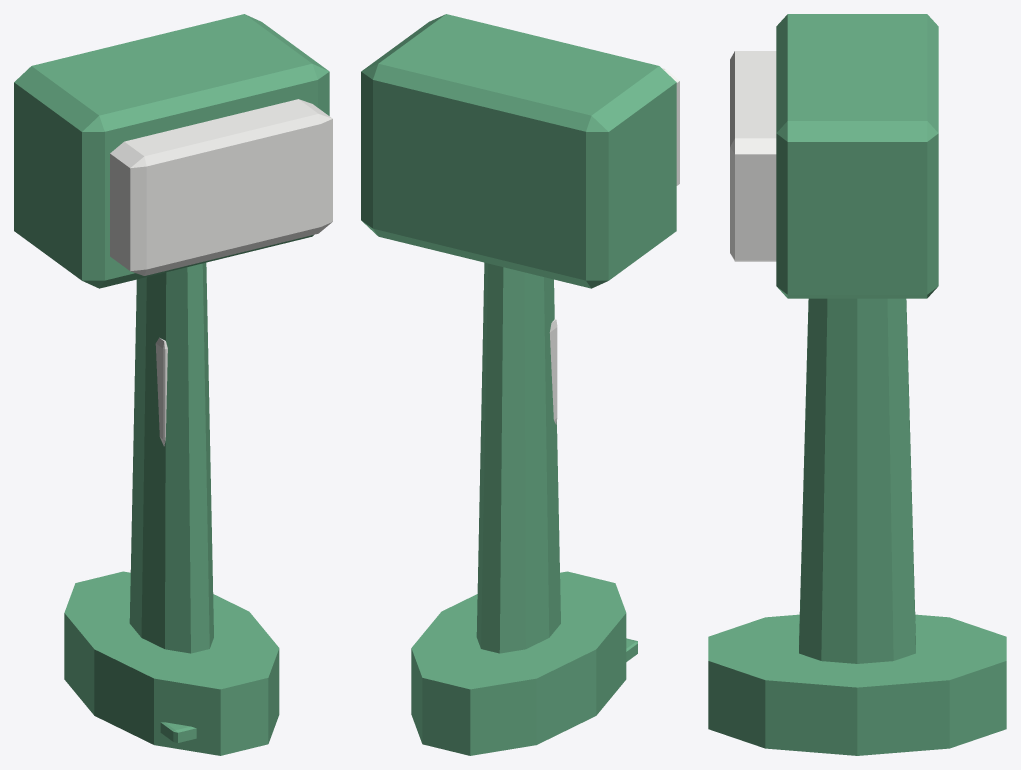
The model's file is b02_parking_ticket_dispenser.glb.
The picture shows the model from 3 angles, left to right: view 1: azimuth 30°, elevation 25°; view 2: azimuth 150°, elevation 25°; view 3: azimuth 270°, elevation 25°; orthographic projection. The views are drawn at different scales.
Parts seen in each view (by area): view 1: b02_parking_ticket_dispenser; view 2: b02_parking_ticket_dispenser; view 3: b02_parking_ticket_dispenser.
Boxes of the visible parts, box(x1,y1,x2,y2) form: b02_parking_ticket_dispenser: box(14, 14, 332, 755); b02_parking_ticket_dispenser: box(361, 14, 679, 755); b02_parking_ticket_dispenser: box(708, 14, 1006, 755).
Size of the model in its own units: 0.65 by 1.59 by 0.66.
